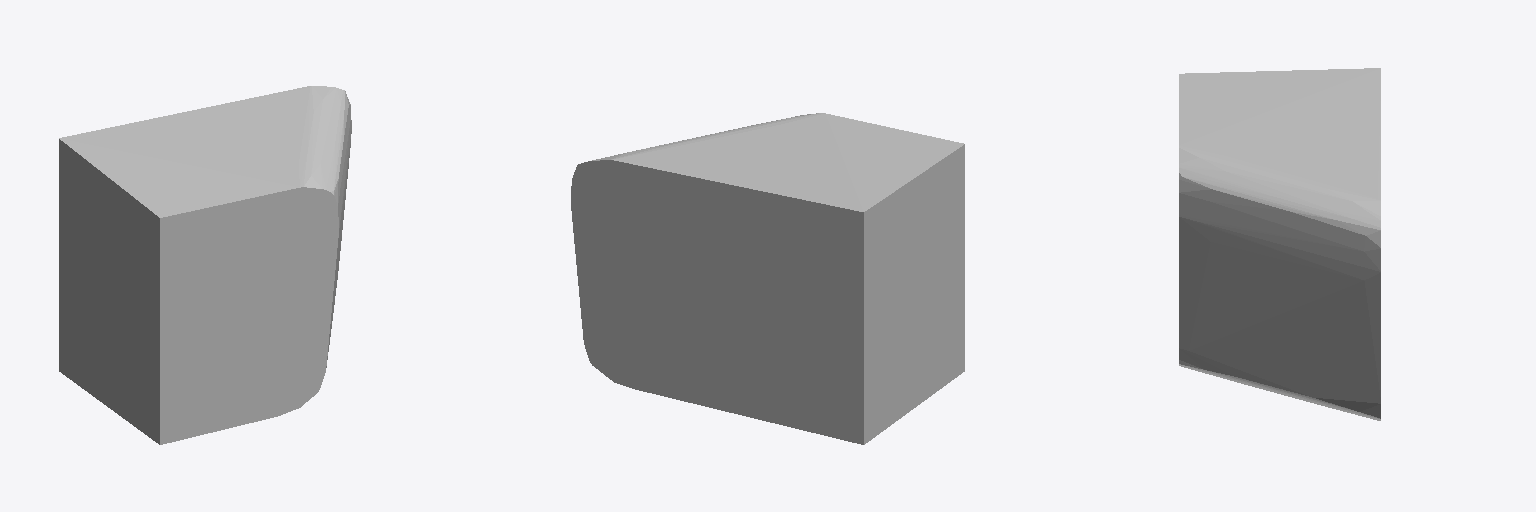
The model's file is sofa_collision_8.obj.
3 views of the same model, side by side, from view 1: azimuth 30°, elevation 25°; view 2: azimuth 150°, elevation 25°; view 3: azimuth 270°, elevation 25° (orthographic).
Bounding box in the file's own units: 125 × 94.57 × 74.69.